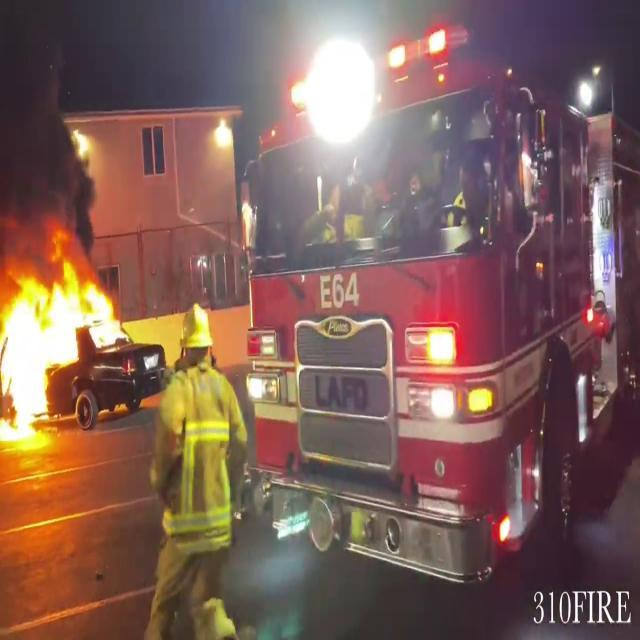Fire: (0, 250, 131, 446)
Smoke: (0, 1, 102, 274)
